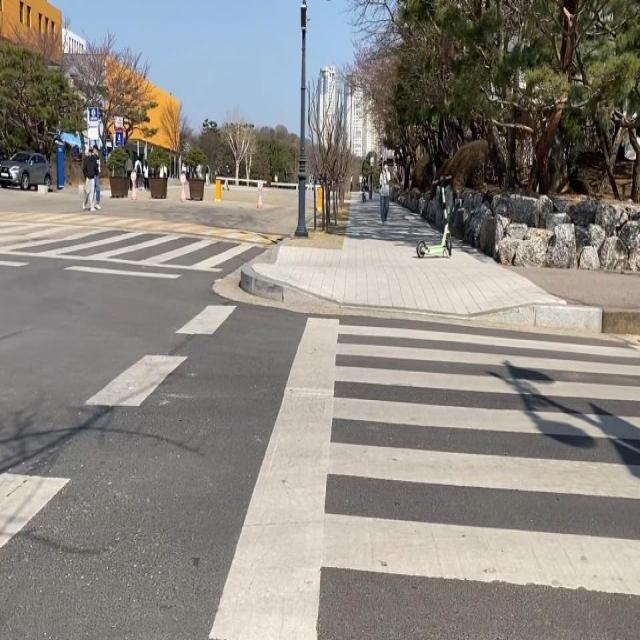sidewalk: (256, 192, 561, 318), (507, 265, 640, 308)
